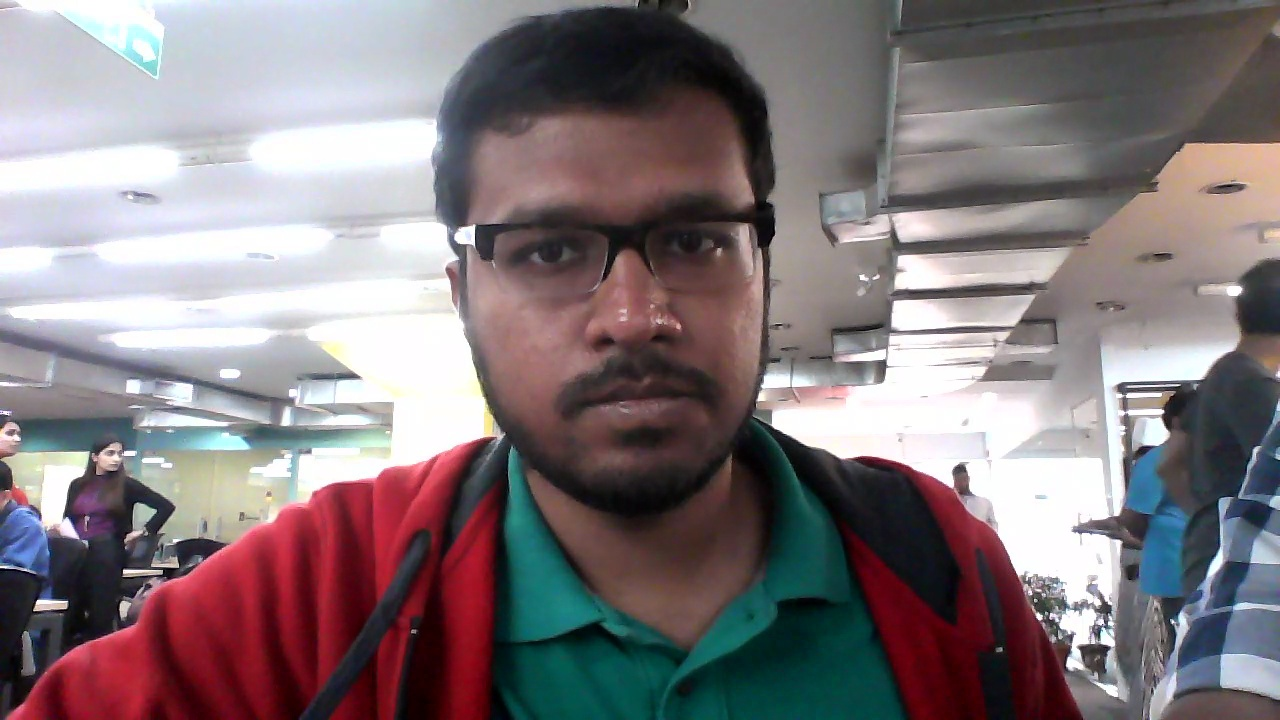open: (447, 10, 784, 514)
